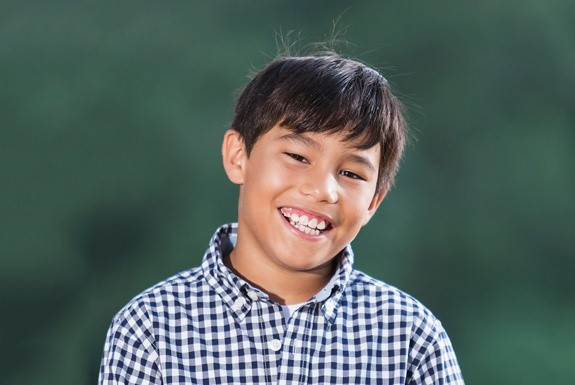face_no_mask: (222, 53, 406, 270)
